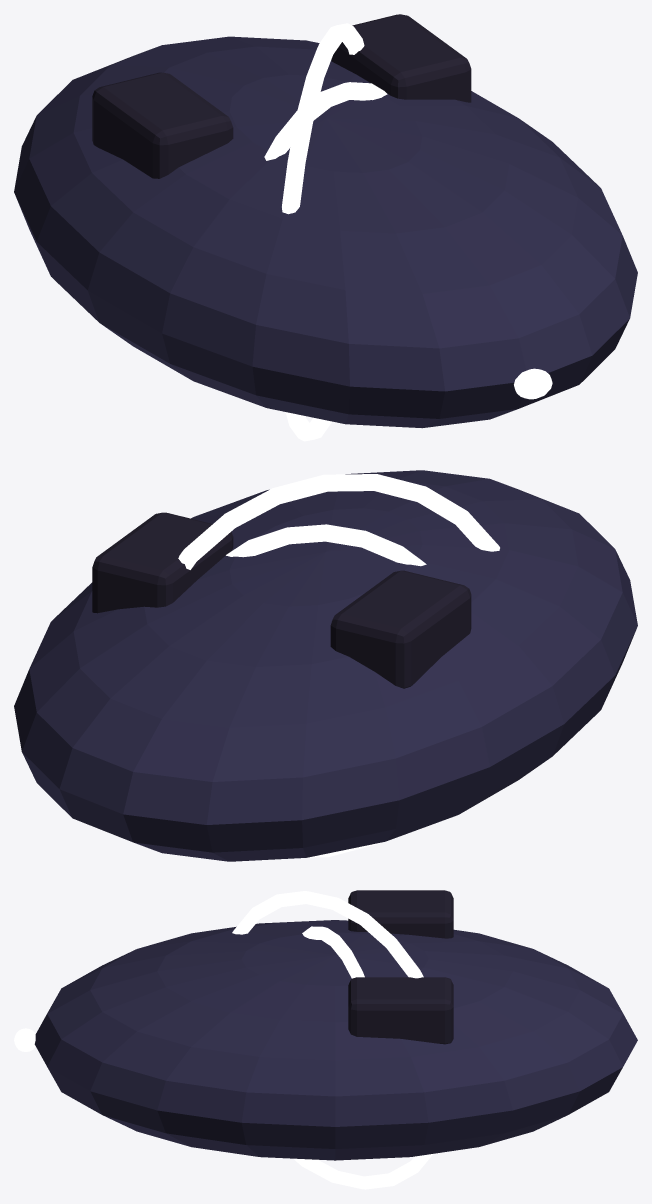
The picture shows the model from 3 angles, top to bottom: view 1: azimuth 30°, elevation 25°; view 2: azimuth 150°, elevation 25°; view 3: azimuth 270°, elevation 25°; orthographic projection. The views are drawn at different scales.
Visible parts, largest first — view 1: RIMWARD_HULL, RIMWARD_EMISSIVE, RIMWARD_ENGINE_GLOW; view 2: RIMWARD_HULL, RIMWARD_EMISSIVE; view 3: RIMWARD_HULL, RIMWARD_EMISSIVE, RIMWARD_ENGINE_GLOW.
Part boxes in pixels (x1,y1,x2,y2): RIMWARD_HULL: (14,14,637,428); RIMWARD_EMISSIVE: (264,23,387,441); RIMWARD_ENGINE_GLOW: (514,368,552,399); RIMWARD_HULL: (14,470,637,861); RIMWARD_EMISSIVE: (178,474,499,857); RIMWARD_HULL: (34,890,637,1160); RIMWARD_EMISSIVE: (232,891,432,1189); RIMWARD_ENGINE_GLOW: (14,1028,35,1051).
Size of the model in its own units: 10.61 by 8.13 by 16.12.
